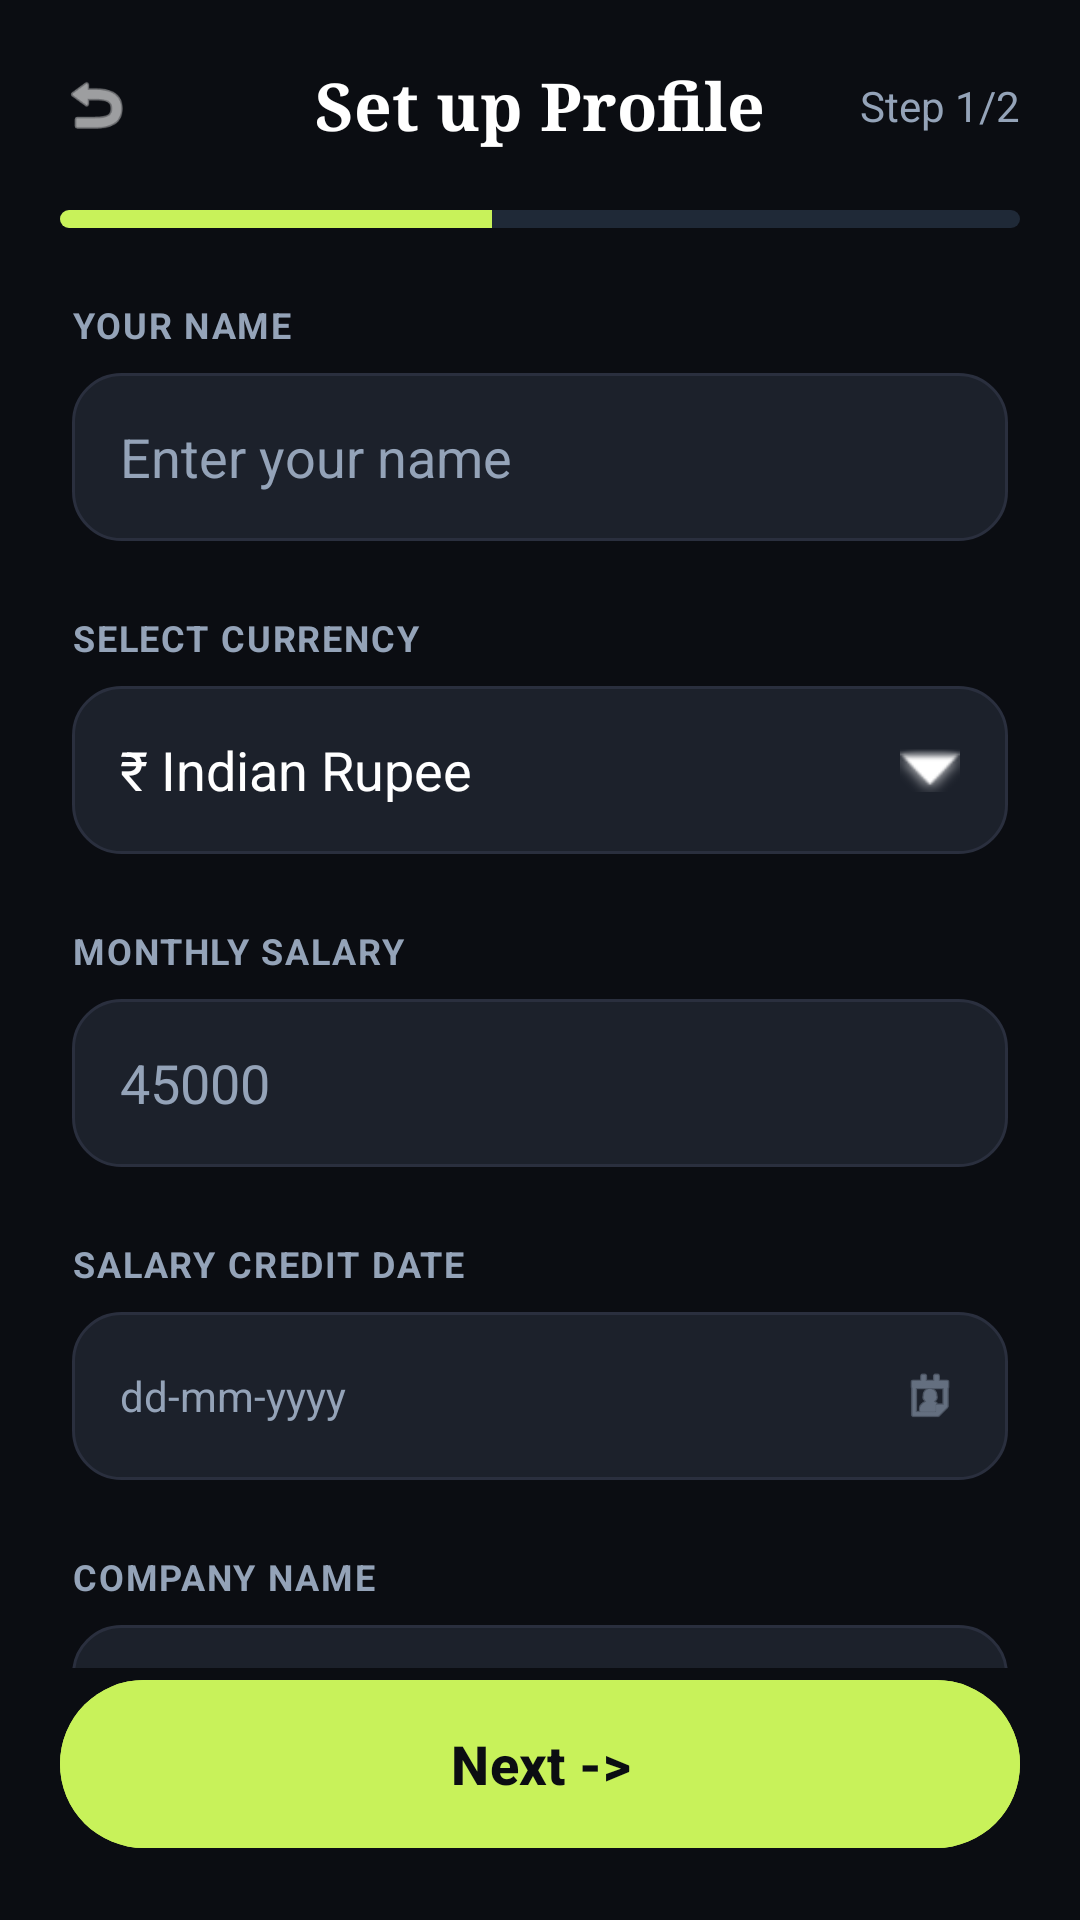

Locate icon controls on the screen. Image size 1080*1920, boxes as bbox=(x1, y1, x2, y2).
arrow down float: bbox=(900, 750, 960, 790)
calendar: bbox=(911, 1374, 949, 1417)
revert: bbox=(71, 82, 123, 129)
